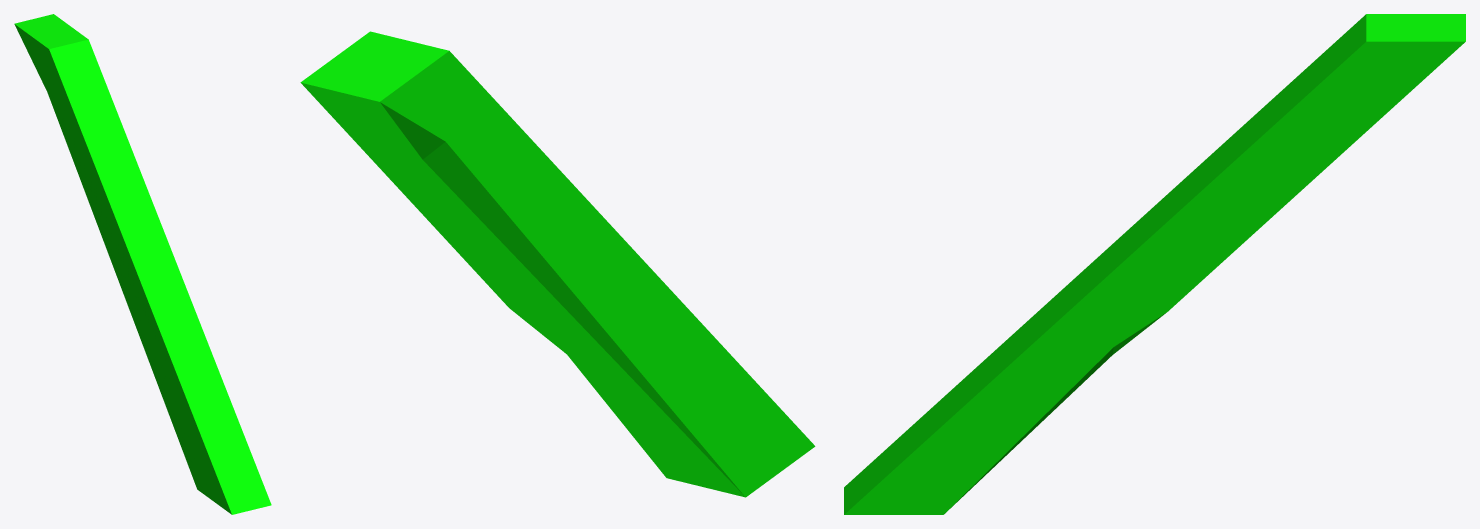
Rendered from SM_Roof_Regular_Truss_Wood_2x2m.fbx.
The picture shows the model from 3 angles, left to right: view 1: azimuth 30°, elevation 25°; view 2: azimuth 150°, elevation 25°; view 3: azimuth 270°, elevation 25°; orthographic projection. The views are drawn at different scales.
Visible parts, largest first — view 1: roof-regular-truss-wood-2x2m; view 2: roof-regular-truss-wood-2x2m; view 3: roof-regular-truss-wood-2x2m.
Boxes of the visible parts, left/top/right/bottom form: roof-regular-truss-wood-2x2m: left=14, top=14, right=271, bottom=514; roof-regular-truss-wood-2x2m: left=300, top=31, right=815, bottom=497; roof-regular-truss-wood-2x2m: left=844, top=14, right=1465, bottom=514.
Size of the model in its own units: 0.25 by 2 by 2.38.
